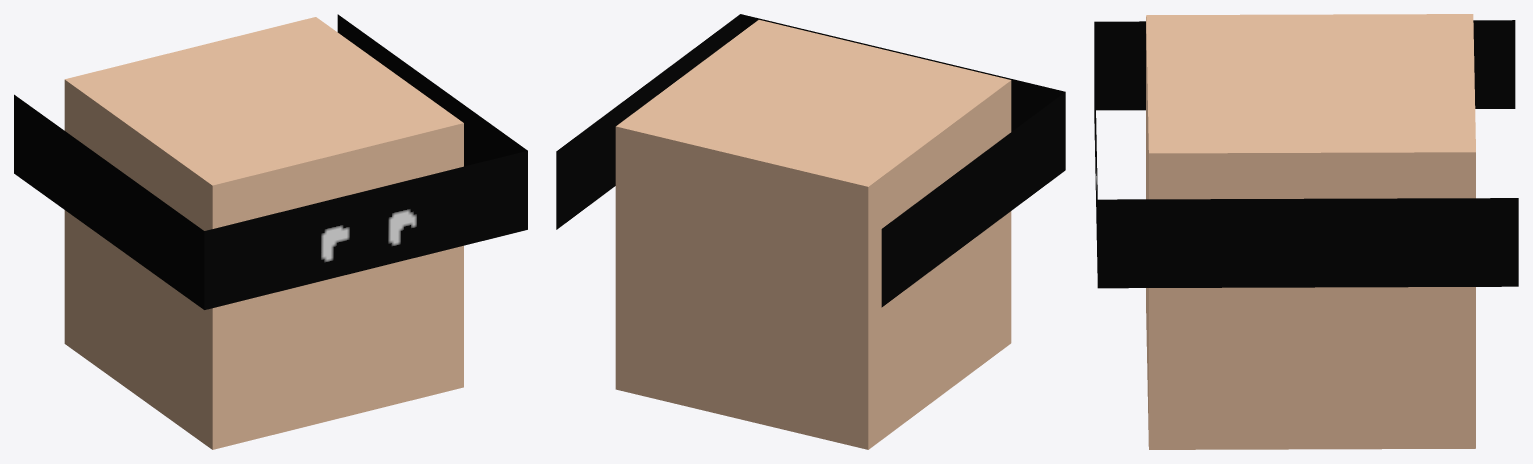
File: zone2.glb
3 renders of one model, left to right at view 1: azimuth 30°, elevation 25°; view 2: azimuth 150°, elevation 25°; view 3: azimuth 270°, elevation 25°, orthographic. The views are drawn at different scales.
Parts seen in each view (by area): view 1: Cube, Cube.001; view 2: Cube, Cube.001; view 3: Cube, Cube.001.
Boxes of the visible parts, box(x1,y1,x2,y2) form: Cube: box(64, 17, 463, 449); Cube.001: box(14, 14, 527, 309); Cube: box(615, 20, 1011, 449); Cube.001: box(556, 14, 1065, 307); Cube: box(1146, 14, 1475, 449); Cube.001: box(1094, 20, 1518, 288).
Bounding box in the file's own units: 2.59 × 2 × 2.59.
Materials: 2 (2 with a texture image).
